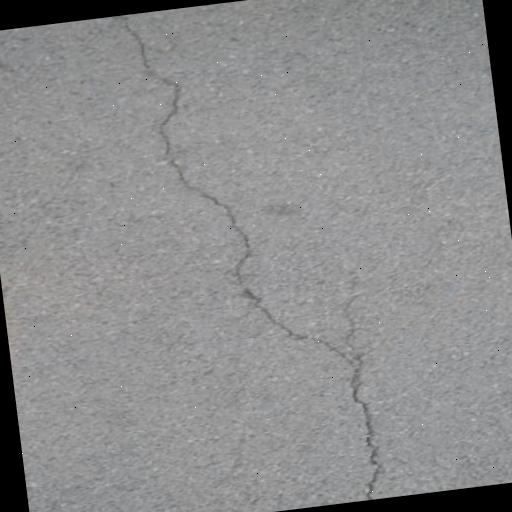spalling: (109, 22, 382, 493)
